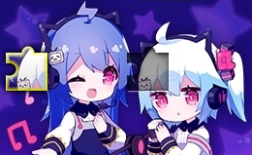gap: (127, 47, 168, 91)
